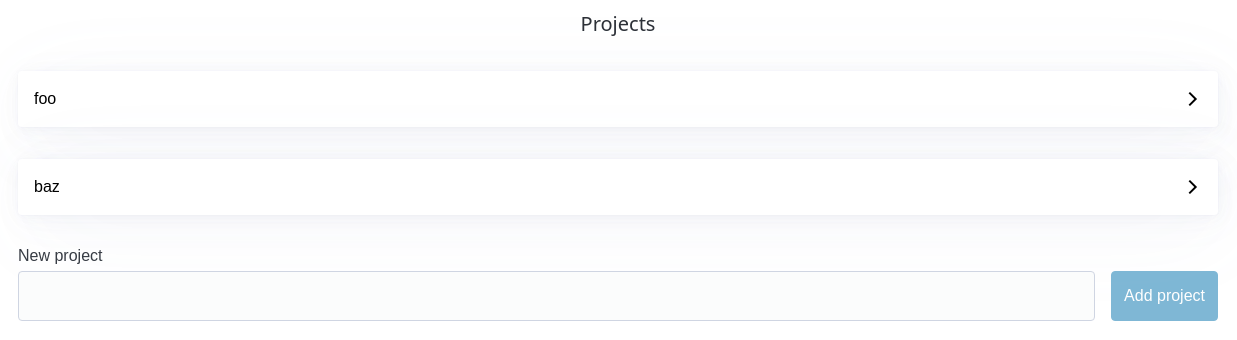
projects page › the add project button is disabled until the new project input is blank
Expected: the button with test id "save-project-btn" is disabled, [1111,271,1218,321]
Type "new project" into the field with test id "new-project-input" at (557, 296), box [18,271,1095,321]
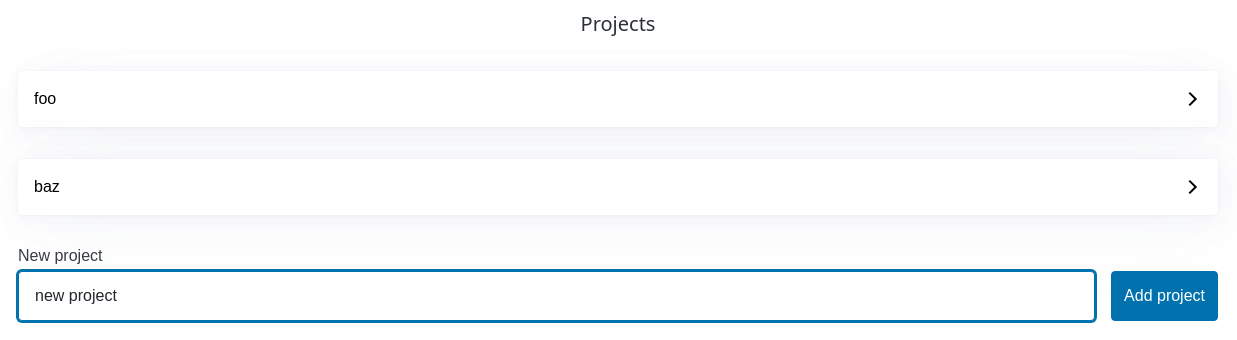
Expected: the button with test id "save-project-btn" is enabled, [1111,271,1218,321]
